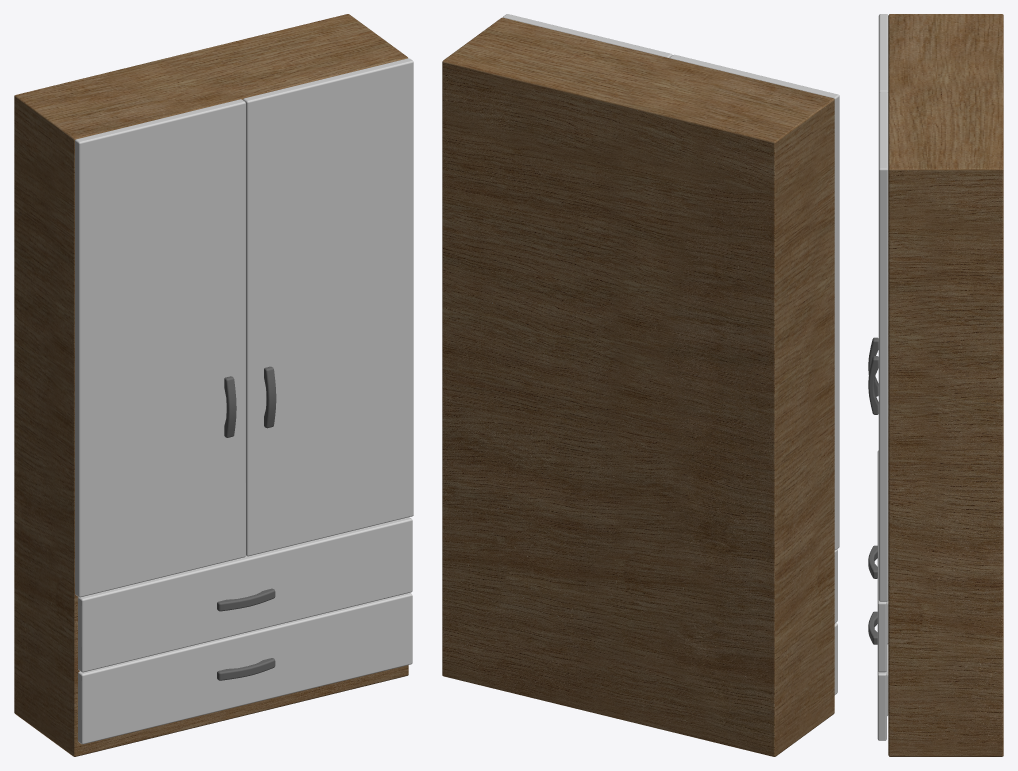
Rendered from whitewoodenwardrobe3.fbx.
3 renders of one model, left to right at view 1: azimuth 30°, elevation 25°; view 2: azimuth 150°, elevation 25°; view 3: azimuth 270°, elevation 25°, orthographic. The views are drawn at different scales.
Parts seen in each view (by area): view 1: WhiteWoodenWardrobe; view 2: WhiteWoodenWardrobe; view 3: WhiteWoodenWardrobe.
Boxes of the visible parts, <box> form: WhiteWoodenWardrobe: <box>14,14,413,756</box>; WhiteWoodenWardrobe: <box>442,14,839,756</box>; WhiteWoodenWardrobe: <box>868,14,1003,756</box>.
Size of the model in its own units: 102 by 181 by 37.67.
